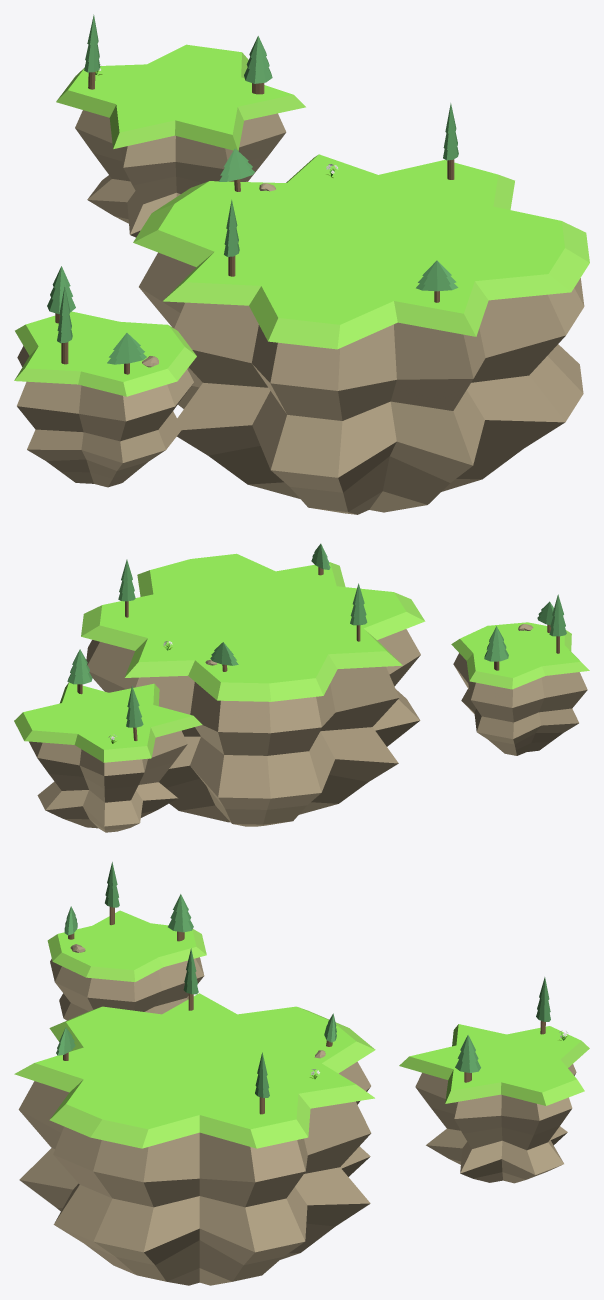
File: land.glb
3 views of the same model, one above another, from view 1: azimuth 30°, elevation 25°; view 2: azimuth 150°, elevation 25°; view 3: azimuth 270°, elevation 25° (orthographic). The views are drawn at different scales.
Parts seen in each view (by area): view 1: Ada1, Ada2, Ada3, Cone.001, Cylinder.002, Cylinder.005, Cylinder.007, Cone.003, Cylinder.003, Cylinder.006, Cylinder.008, Cylinder.004; view 2: Ada1, Ada2, Ada3, Cone.001, Cone.003, Cylinder.006, Cylinder.003, Cylinder.008, Cylinder.004, Cylinder.007; view 3: Ada1, Ada2, Ada3, Cone.001, Cone.003.
Part boxes in pixels (left/top/right/bottom): Ada1: left=133, top=154, right=589, bottom=514; Ada2: left=56, top=44, right=305, bottom=237; Ada3: left=14, top=311, right=196, bottom=487; Cone.001: left=244, top=36, right=272, bottom=94; Cylinder.002: left=416, top=260, right=458, bottom=302; Cylinder.005: left=107, top=333, right=146, bottom=374; Cylinder.007: left=219, top=148, right=254, bottom=191; Cone.003: left=47, top=266, right=75, bottom=323; Cylinder.003: left=57, top=285, right=72, bottom=364; Cylinder.006: left=224, top=199, right=239, bottom=276; Cylinder.008: left=443, top=103, right=458, bottom=179; Cylinder.004: left=84, top=14, right=100, bottom=89; Ada1: left=81, top=553, right=425, bottom=826; Ada2: left=14, top=682, right=202, bottom=832; Ada3: left=451, top=622, right=589, bottom=755; Cone.001: left=67, top=649, right=92, bottom=694; Cone.003: left=484, top=626, right=508, bottom=670; Cylinder.006: left=350, top=583, right=367, bottom=641; Cylinder.003: left=549, top=594, right=566, bottom=653; Cylinder.008: left=118, top=559, right=135, bottom=617; Cylinder.004: left=126, top=686, right=143, bottom=740; Cylinder.007: left=210, top=642, right=238, bottom=671; Ada1: left=14, top=993, right=375, bottom=1285; Ada2: left=399, top=1024, right=589, bottom=1183; Ada3: left=47, top=910, right=206, bottom=1020; Cone.001: left=455, top=1035, right=480, bottom=1082; Cone.003: left=168, top=894, right=193, bottom=941.
Size of the model in its own units: 4.59 by 2.54 by 4.84.
Materials: 23 (6 with a texture image).
